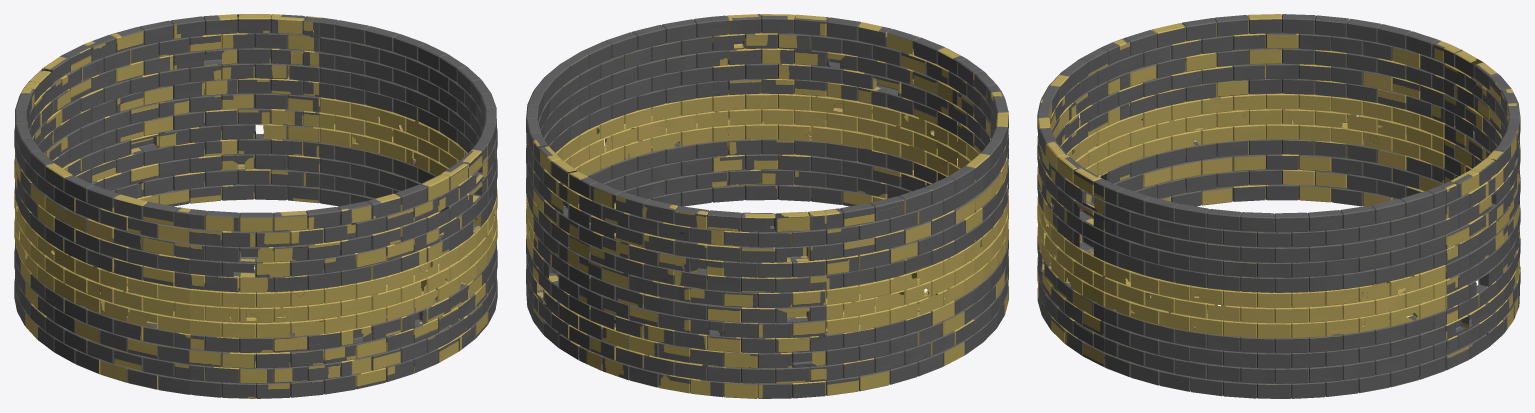
File: Round walls.fbx
3 views of the same model, side by side, from view 1: azimuth 30°, elevation 25°; view 2: azimuth 150°, elevation 25°; view 3: azimuth 270°, elevation 25° (orthographic).
Visible parts, largest first — view 1: wall.003; view 2: wall.003; view 3: wall.003.
Boxes of the visible parts, box(x1,y1,x2,y2) form: wall.003: box(14, 14, 497, 398); wall.003: box(526, 14, 1008, 398); wall.003: box(1037, 14, 1520, 398).
Size of the model in its own units: 2611 by 1084 by 2611.
